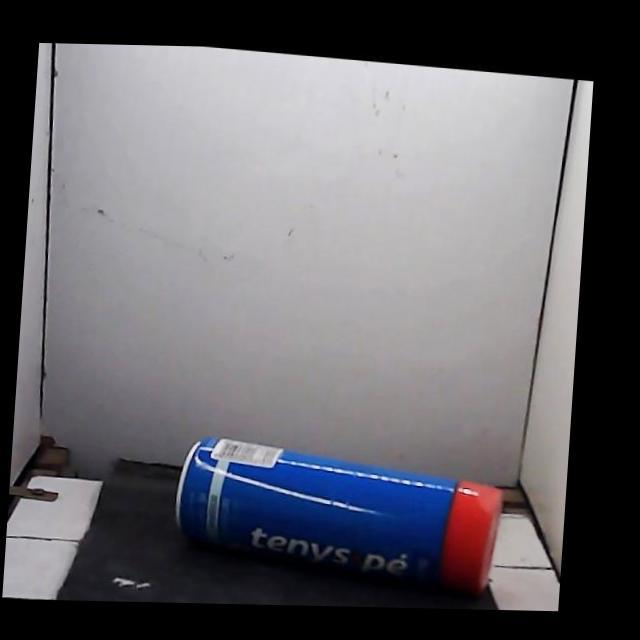plastico: (176, 437, 501, 594)
